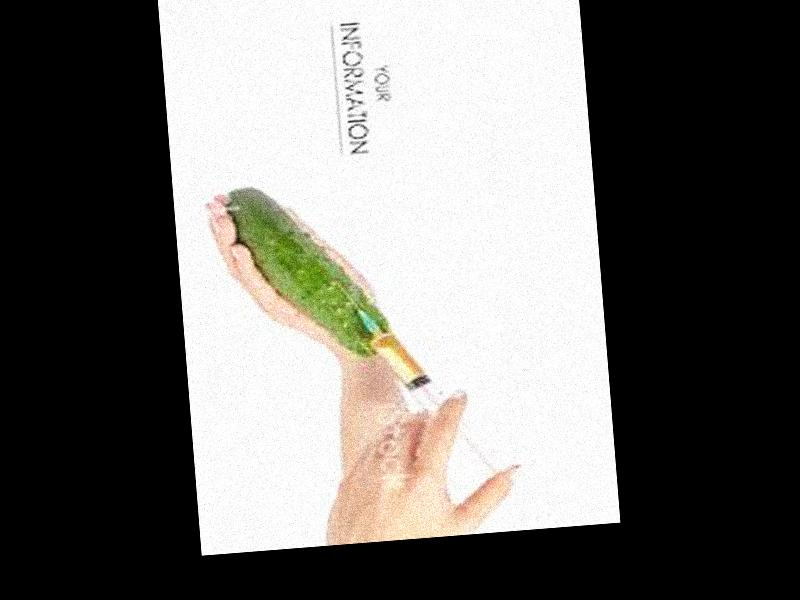Cucumber: (227, 178, 396, 365)
